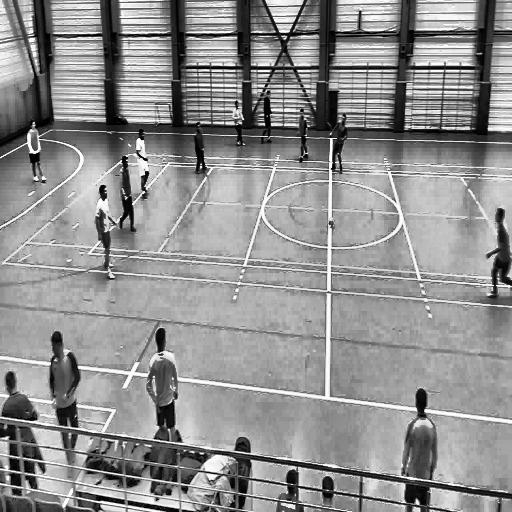ball: (326, 213, 336, 231)
player: (46, 329, 82, 477), (399, 385, 437, 512), (144, 323, 178, 439), (484, 206, 510, 304), (95, 184, 119, 284), (118, 156, 137, 237), (26, 118, 48, 186), (328, 113, 350, 177), (136, 129, 150, 202), (296, 105, 310, 170), (193, 120, 209, 176), (260, 89, 275, 148), (232, 98, 248, 148)
